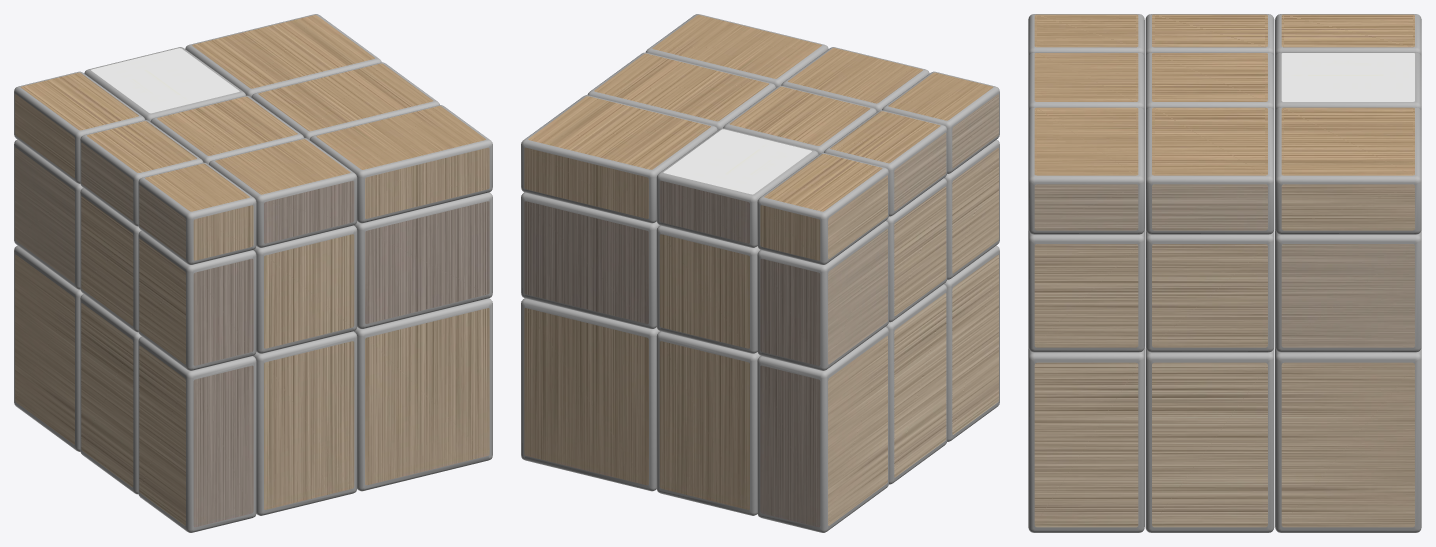
The picture shows the model from 3 angles, left to right: view 1: azimuth 30°, elevation 25°; view 2: azimuth 150°, elevation 25°; view 3: azimuth 270°, elevation 25°; orthographic projection. The views are drawn at different scales.
Parts seen in each view (by area): view 1: Object_0, Object_1; view 2: Object_0, Object_1; view 3: Object_0, Object_1.
Part boxes in pixels (x1,y1,x2,y2): Object_0: [15, 15, 489, 527]; Object_1: [14, 14, 492, 532]; Object_0: [524, 15, 998, 527]; Object_1: [521, 14, 999, 532]; Object_0: [1034, 14, 1414, 527]; Object_1: [1028, 14, 1421, 532].
Size of the model in its own units: 0.0787 by 0.0787 by 0.0787.
2 materials, 1 textured.
